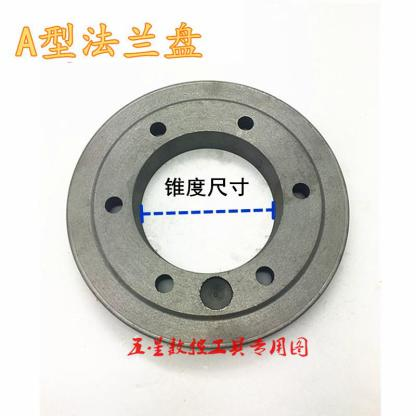FOD: (58, 75, 358, 357)
